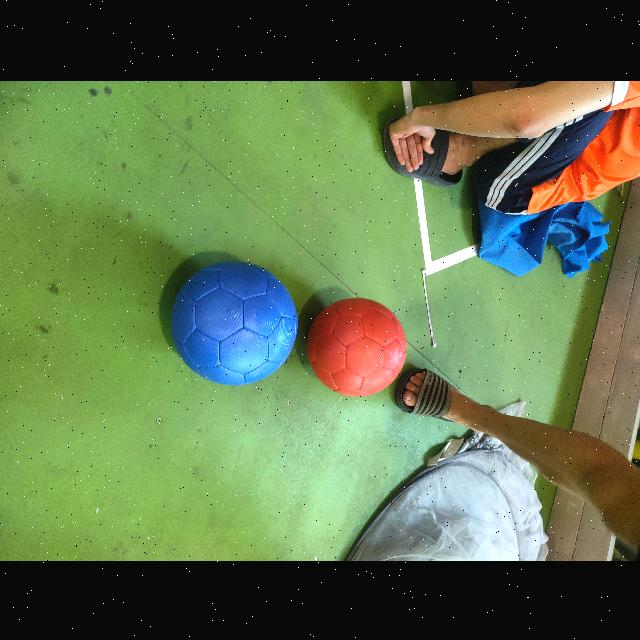B: (168, 262, 298, 388)
R: (306, 296, 406, 398)
